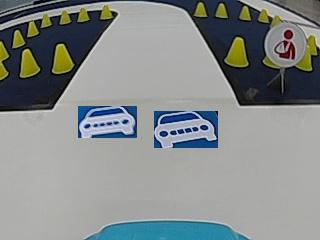cone: (225, 36, 249, 67), (51, 43, 73, 73), (18, 49, 40, 77), (296, 50, 312, 71), (12, 29, 25, 47), (99, 4, 112, 20), (77, 7, 90, 22), (27, 20, 40, 35), (194, 2, 207, 17), (215, 3, 228, 17), (239, 5, 251, 20), (0, 40, 9, 59), (59, 10, 71, 24), (257, 8, 269, 22), (41, 13, 52, 27)
patient: (266, 25, 301, 65)
